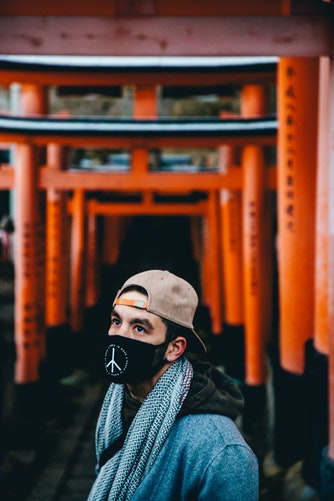mask: (103, 336, 158, 387)
